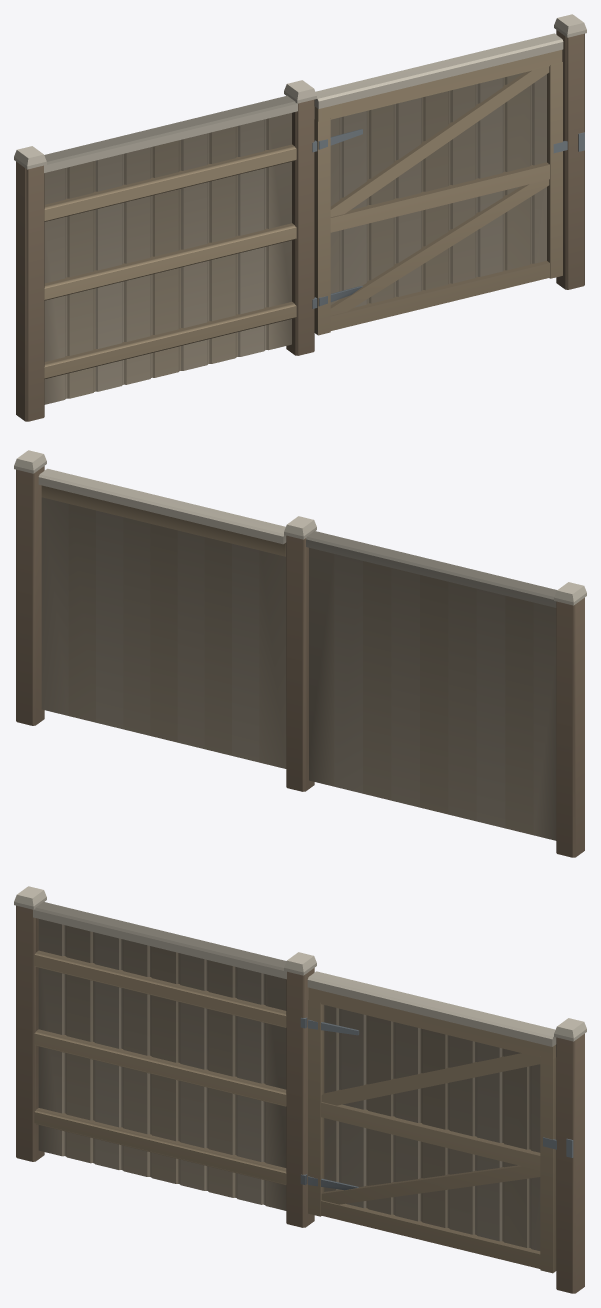
The model's file is fence.glb.
3 views of the same model, one above another, from view 1: azimuth 30°, elevation 25°; view 2: azimuth 150°, elevation 25°; view 3: azimuth 330°, elevation 25° (orthographic).
Parts seen in each view (by area): view 1: fence.001; view 2: fence.001; view 3: fence.001.
Boxes of the visible parts, x1,y1,x2,y2 form: fence.001: [14, 14, 586, 421]; fence.001: [14, 450, 586, 857]; fence.001: [14, 886, 586, 1293].
Bounding box in the file's own units: 4 × 1.8 × 0.164.
